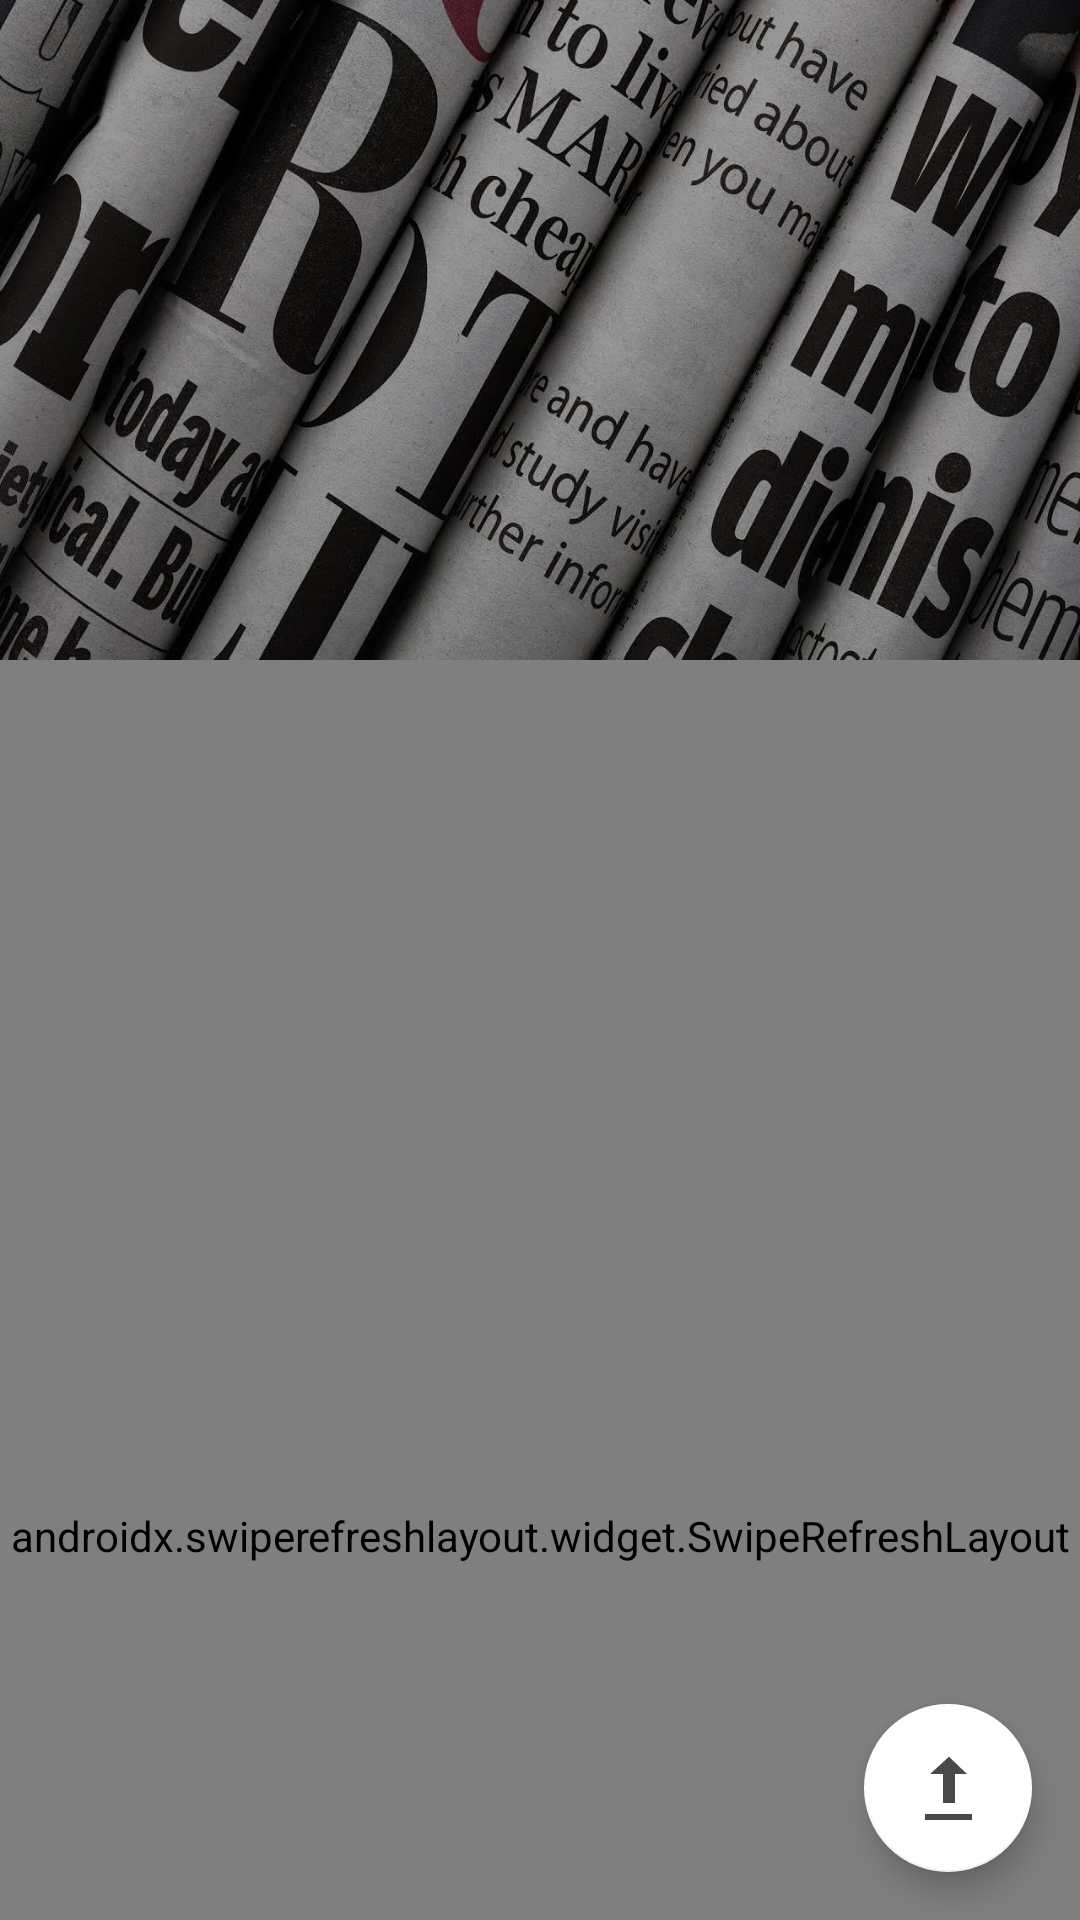

Named icons in this screenshot (1080x1920) and their bounding boxes, box(x1, y1, x2, y2):
upload done: box(864, 1704, 1032, 1872)
